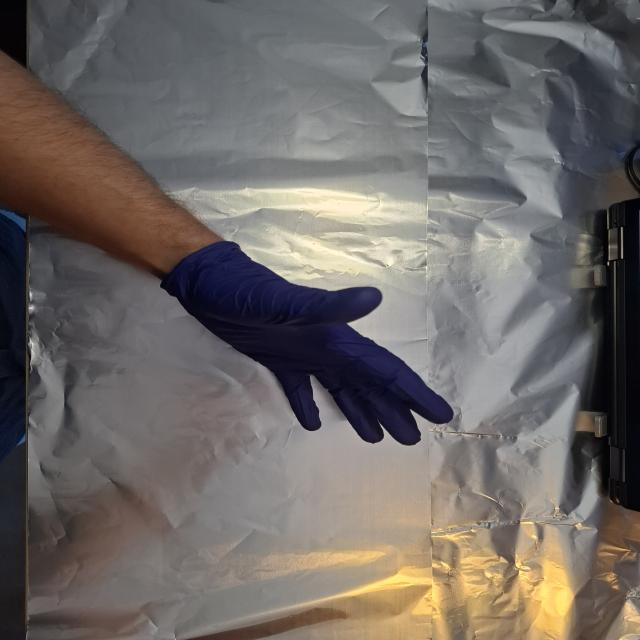glove_on: (170, 242, 458, 448)
